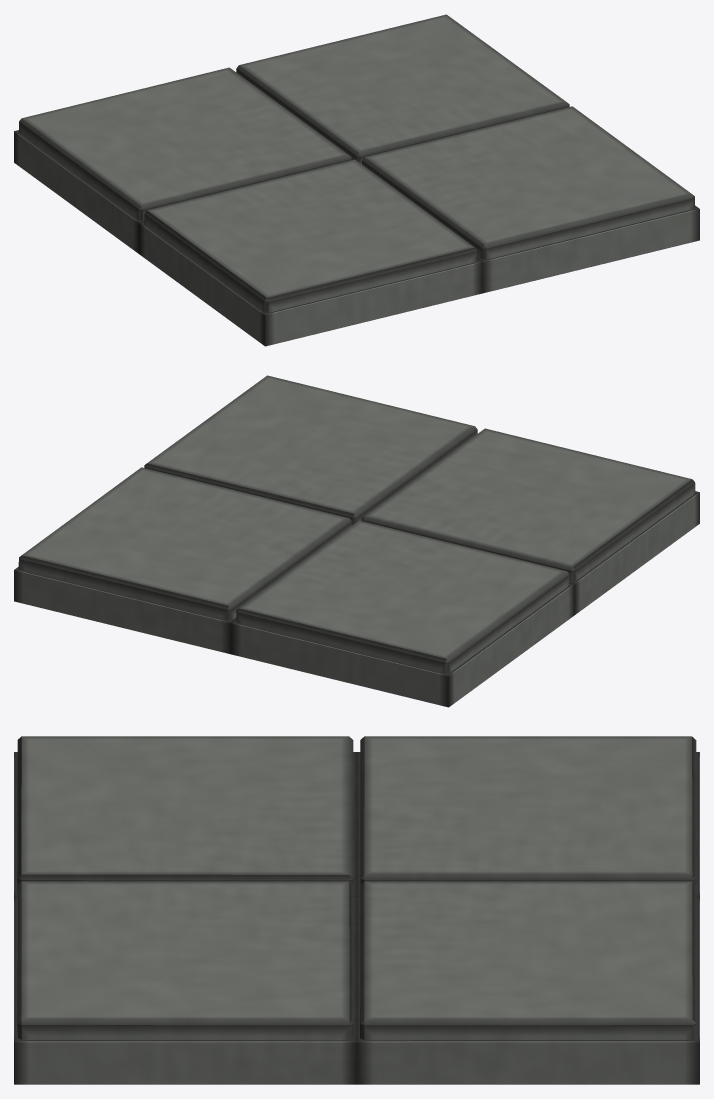
The model's file is floor_slab_a.glb.
3 renders of one model, top to bottom at view 1: azimuth 30°, elevation 25°; view 2: azimuth 150°, elevation 25°; view 3: azimuth 270°, elevation 25°, orthographic. The views are drawn at different scales.
Parts seen in each view (by area): view 1: floor_slab_a; view 2: floor_slab_a; view 3: floor_slab_a.
Part boxes in pixels (x1,y1,x2,y2): floor_slab_a: (14,14,699,346); floor_slab_a: (14,375,699,707); floor_slab_a: (14,736,699,1084).
Bounding box in the file's own units: 1 × 0.1 × 1.
1 material, 1 textured.
